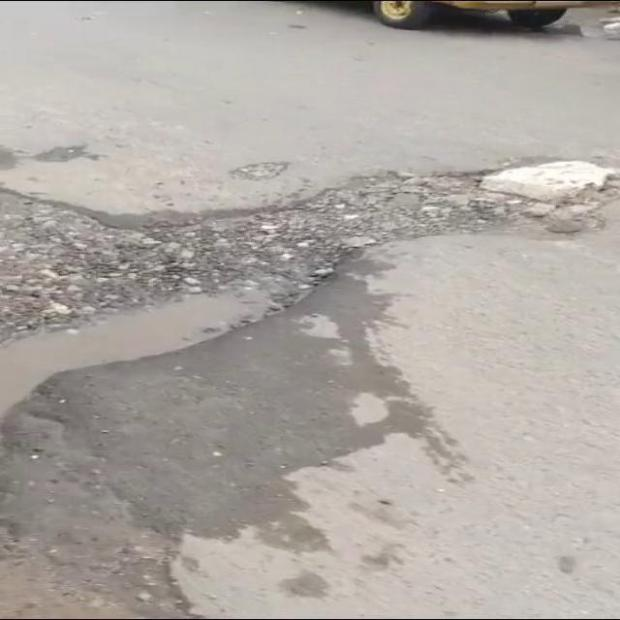lubang: (0, 161, 619, 415), (231, 162, 290, 180)
